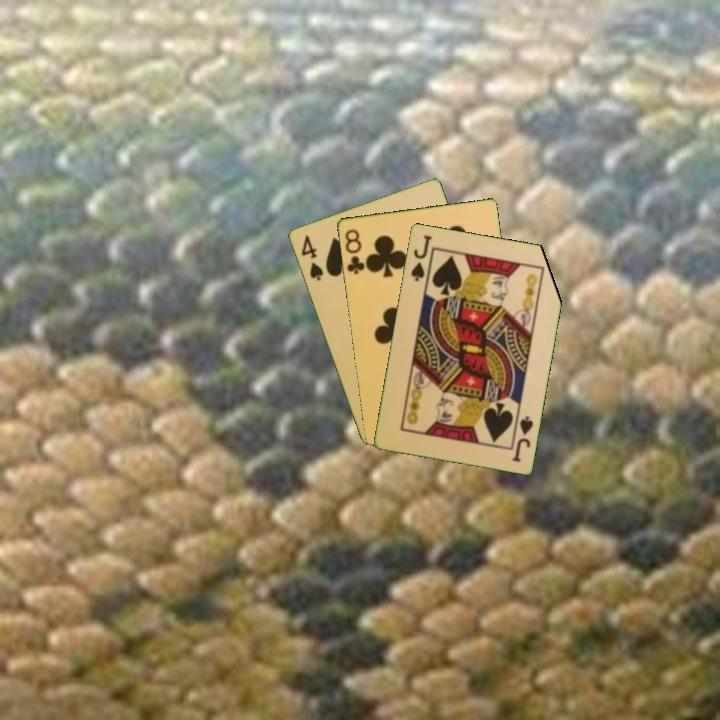4s: (297, 231, 326, 283)
8c: (341, 225, 367, 277)
Js: (508, 412, 536, 465), (407, 231, 434, 284)
